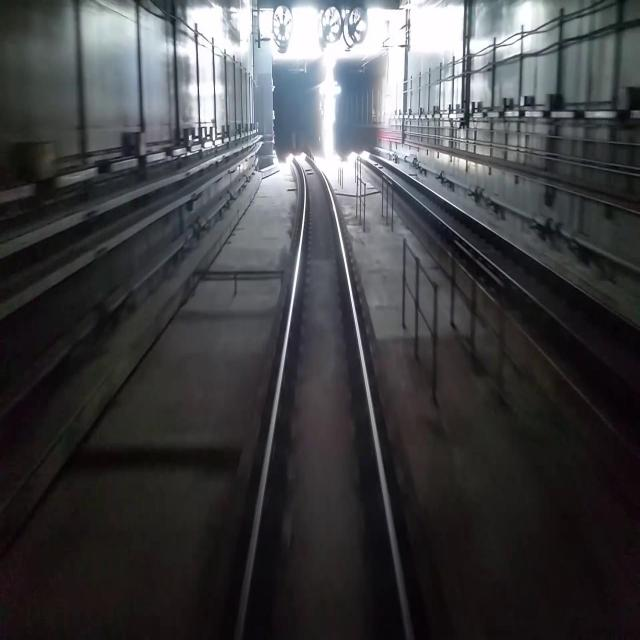rail-track: (239, 149, 410, 639), (353, 149, 640, 396)
